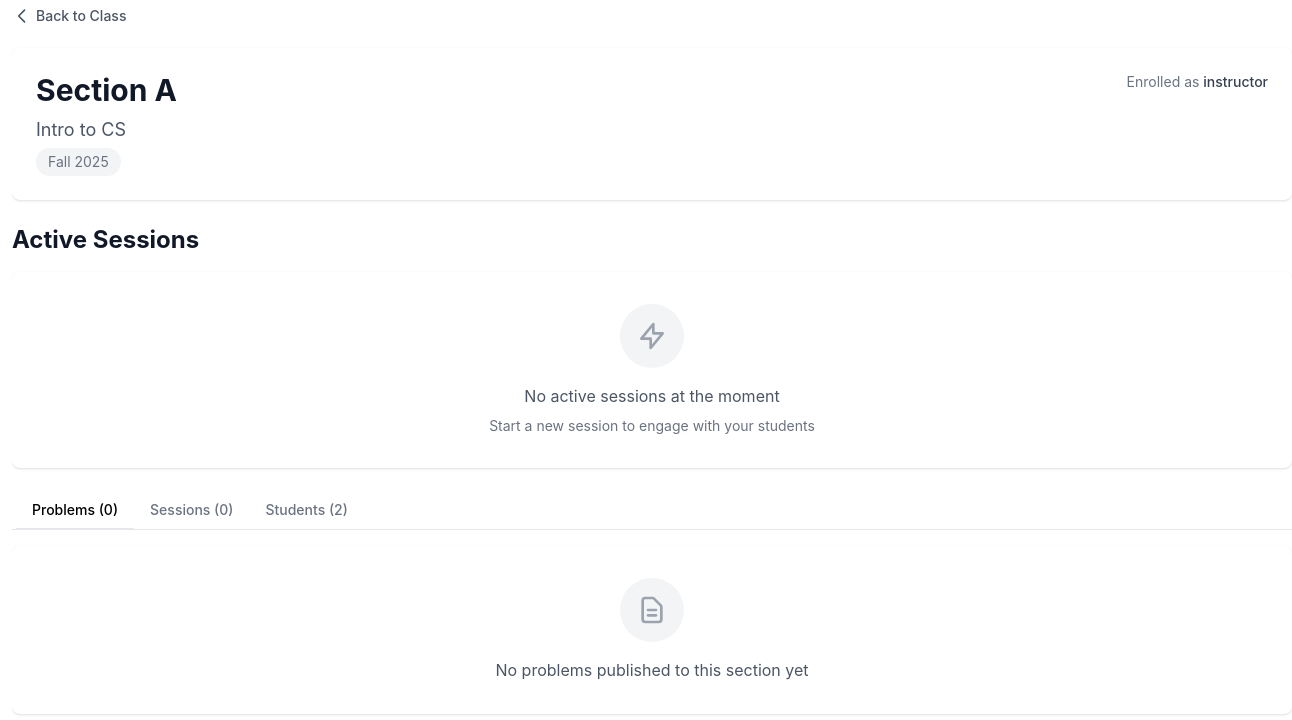
Test: InstructorSectionView › students › renders student display names and progress fractions
Click the tab "Students (2)".
click(307, 511)  # box x1=250 y1=492 x2=364 y2=530
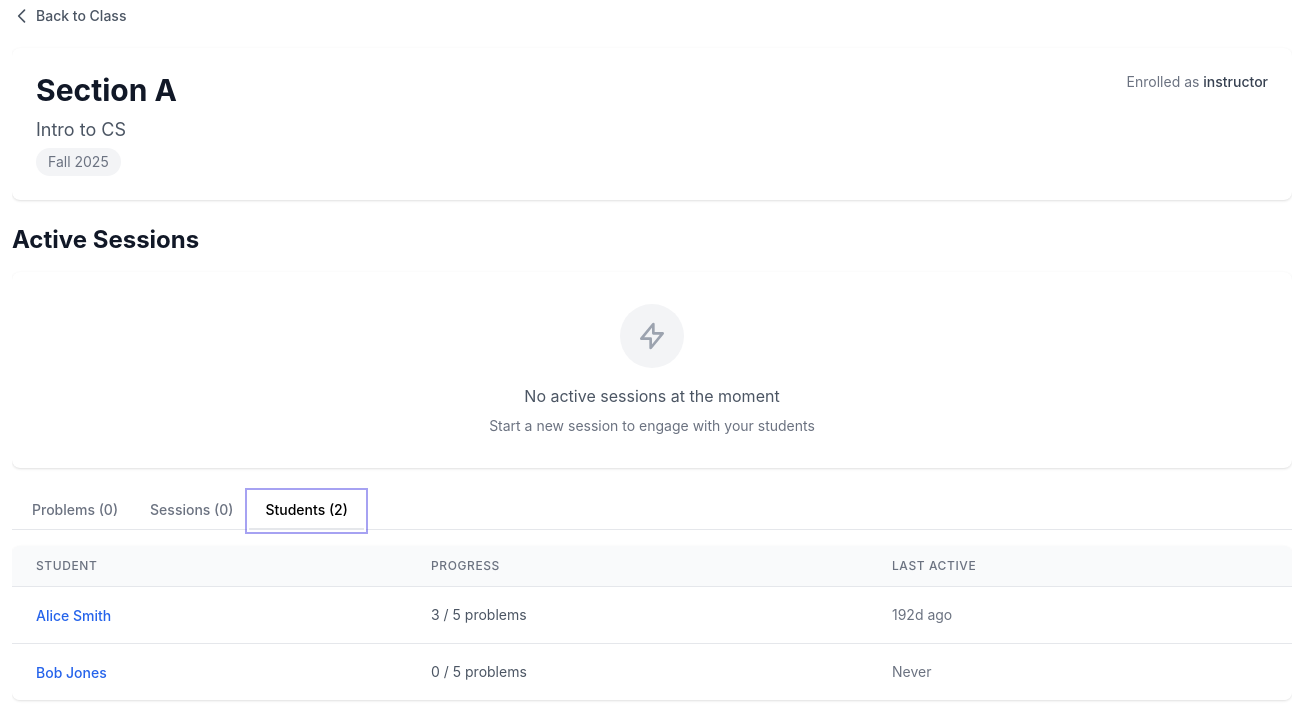
expect the link "Alice Smith" is shown: met, box x1=36 y1=607 x2=111 y2=624
expect the text "3 / 5 problems" is shown: met, box x1=407 y1=586 x2=868 y2=644
expect the link "Bob Jones" is shown: met, box x1=36 y1=664 x2=107 y2=681
